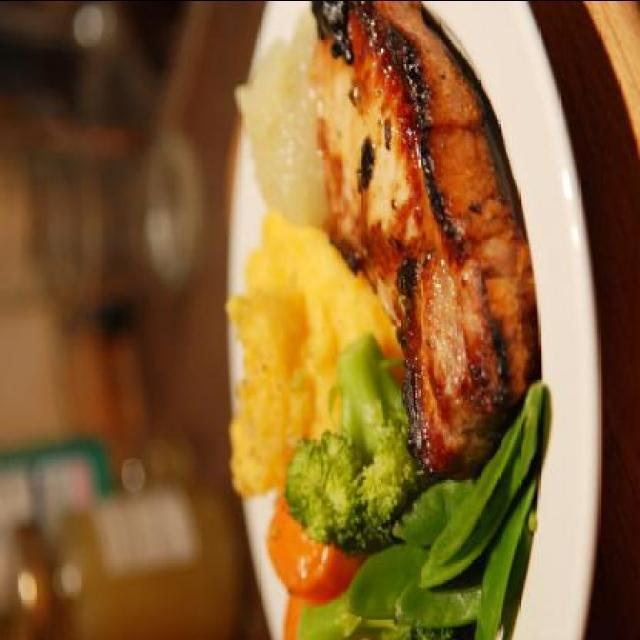Broccoli: (280, 327, 418, 564)
